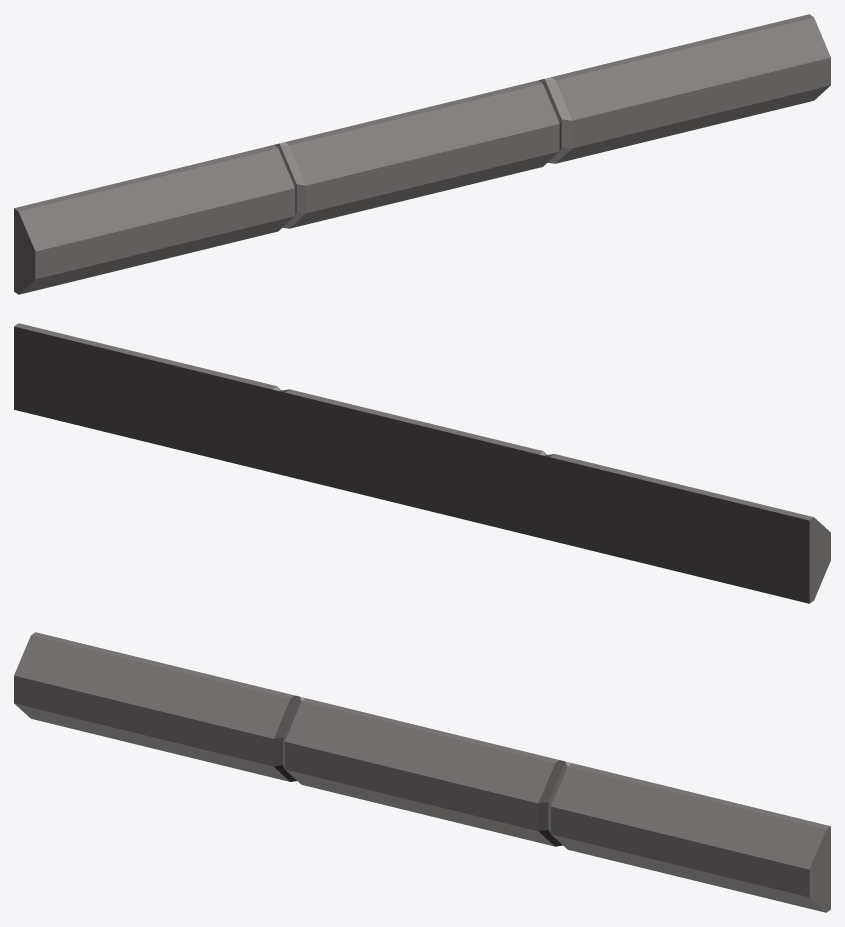
File: SkirtingBoard_02.glb
The picture shows the model from 3 angles, top to bottom: view 1: azimuth 30°, elevation 25°; view 2: azimuth 150°, elevation 25°; view 3: azimuth 330°, elevation 25°; orthographic projection.
Visible parts, largest first — view 1: SkirtingBoard_02; view 2: SkirtingBoard_02; view 3: SkirtingBoard_02.
Boxes of the visible parts, x1,y1,x2,y2 form: SkirtingBoard_02: [14, 14, 830, 294]; SkirtingBoard_02: [14, 323, 830, 603]; SkirtingBoard_02: [14, 632, 830, 912].
Size of what is drawn, in the model's own units: 1 by 0.1 by 0.0467.
1 material, 1 textured.
